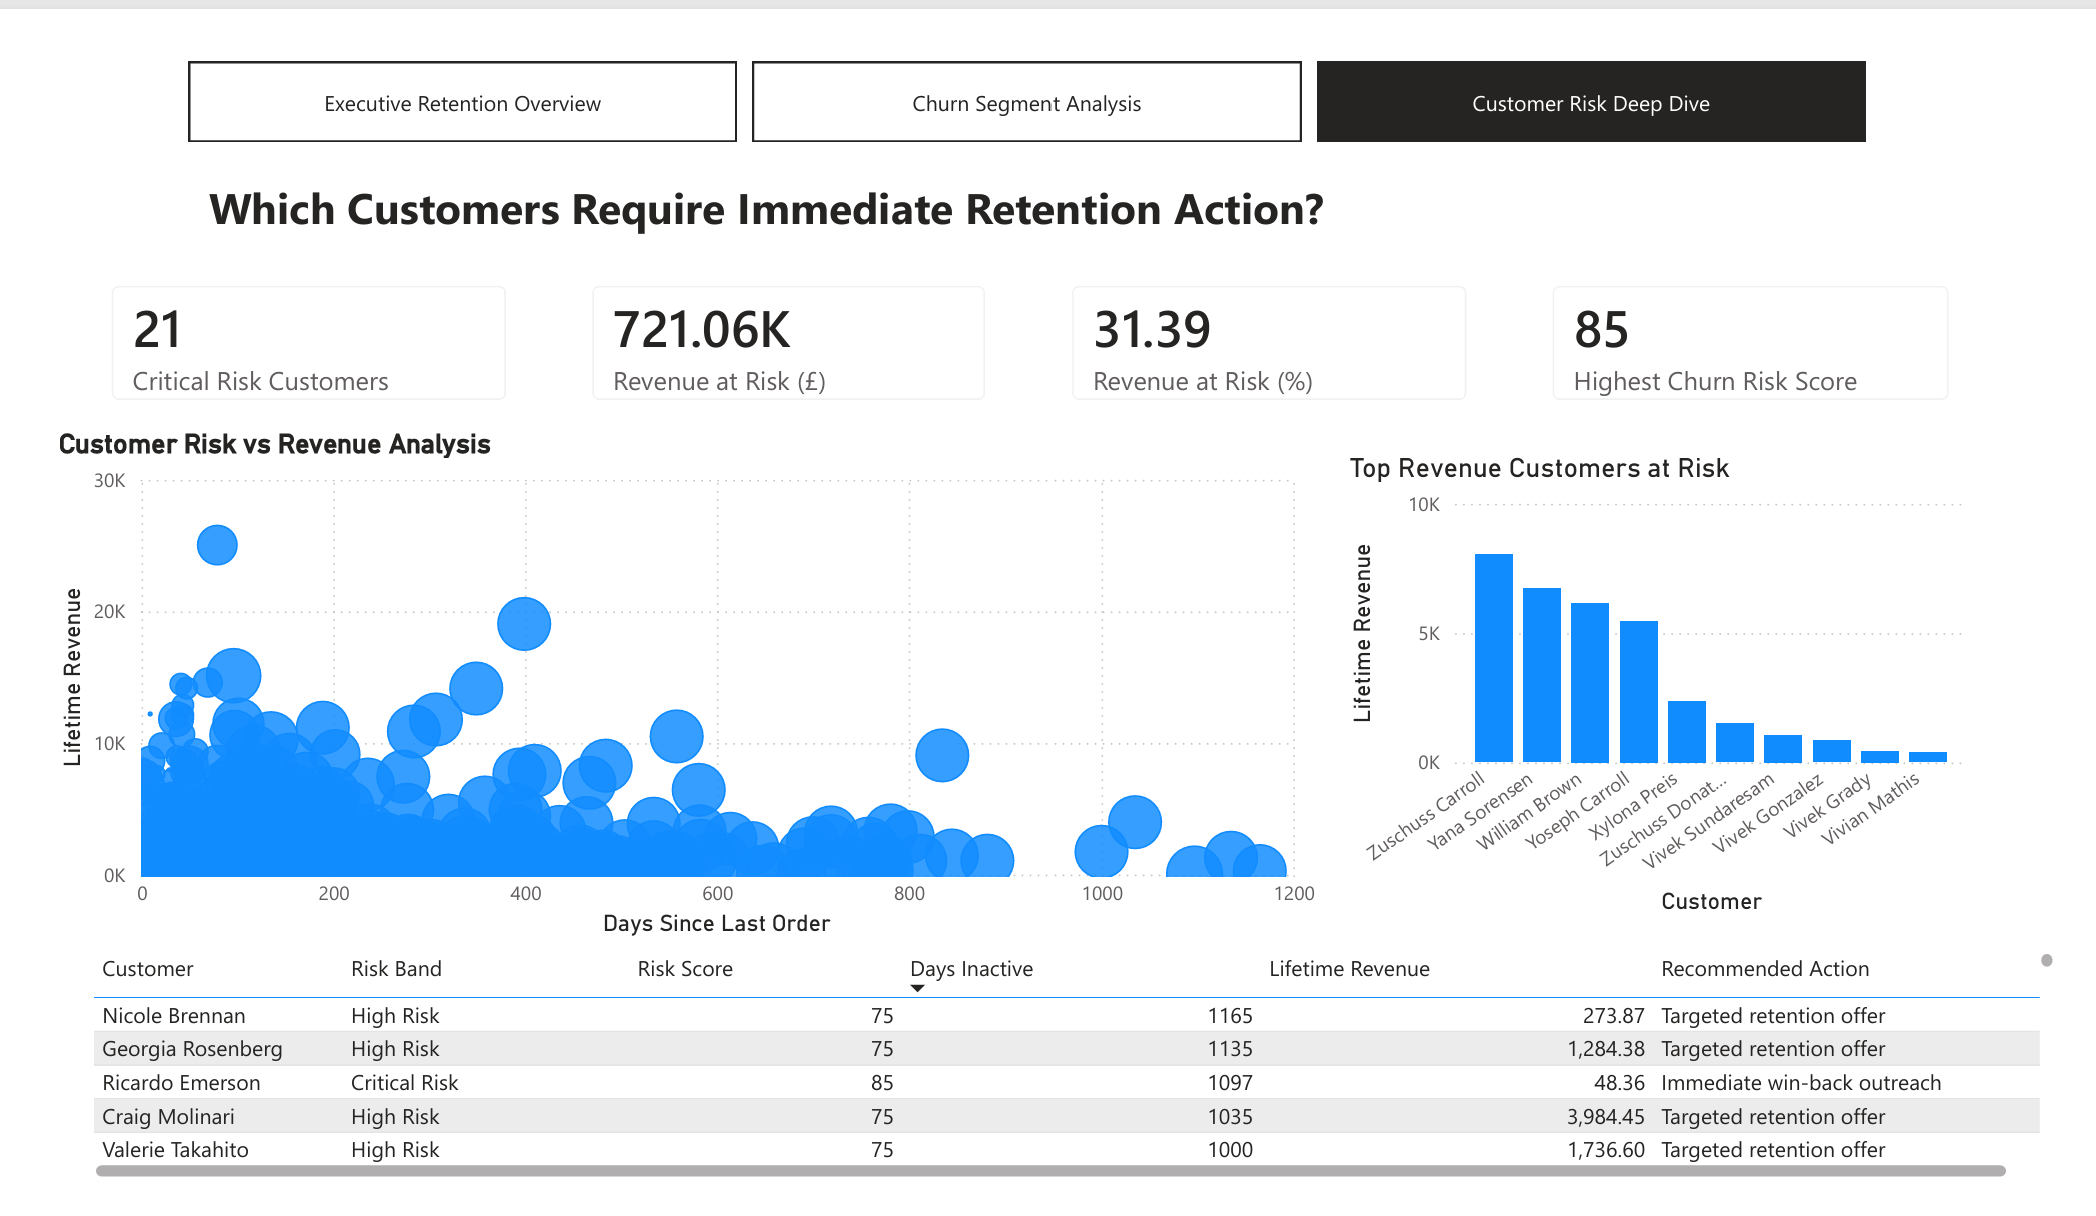

The page's visual inventory and layout, read from the dashboard file:
{"tool":"powerbi","page":{"name":"Customer Risk Deep Dive","canvas":[1280,720],"ordinal":2},"visuals":[{"type":"scatterChart","title":"Customer Risk vs Revenue Analysis","fields":{"X":["Sum(churn_customer_detail.days_since_last_order)"],"Y":["Sum(churn_customer_detail.lifetime_sales)"],"Size":["Sum(churn_customer_detail.churn_risk_score)"],"Category":["churn_customer_detail.customer_name"]},"box":[10.6,236.6,793.2,323],"z":0},{"type":"pageNavigator","box":[97.1,9.1,1046.4,50],"z":1},{"type":"textbox","box":[97.1,75.8,1046.4,56.1],"z":3},{"type":"cardVisual","fields":{"Data":["Sum(churn_segment_summary.customer_count)"]},"box":[31.8,131.9,280,104.6],"z":4},{"type":"cardVisual","fields":{"Data":["Sum(churn_kpi_summary.revenue_at_high_risk)"]},"box":[331.8,131.9,279.1,104.6],"z":5},{"type":"cardVisual","fields":{"Data":["Sum(churn_kpi_summary.revenue_at_high_risk_pct)"]},"box":[630.7,131.9,280.6,104.6],"z":6},{"type":"cardVisual","fields":{"Data":["Max(churn_customer_detail.churn_risk_score)"]},"box":[931.2,131.9,280.6,104.6],"z":7},{"type":"tableEx","fields":{"Values":["churn_customer_detail.customer_name","churn_customer_detail.churn_risk_band","Sum(churn_customer_detail.churn_risk_score)","Sum(churn_customer_detail.days_since_last_order)","Sum(churn_customer_detail.lifetime_sales)","churn_customer_detail.recommended_retention_action"]},"box":[31.8,559.6,1234.5,151.7],"z":8},{"type":"columnChart","title":"Top Revenue Customers at Risk","fields":{"Category":["churn_customer_detail.customer_name"],"Y":["Sum(churn_customer_detail.lifetime_sales)"]},"box":[815.9,251.8,395.8,294.2],"z":9}]}

Visuals, with their boxes on the page's 1280x720 design canvas (x1, y1, x2, y2). These are canvas units, not pixel positions in the 2096x1216 screenshot, which may show the page scaled, cropped or inside an application window:
"Customer Risk vs Revenue Analysis" scatterChart: x1=11, y1=237, x2=804, y2=560
pageNavigator: x1=97, y1=9, x2=1144, y2=59
textbox: x1=97, y1=76, x2=1144, y2=132
cardVisual - Sum(churn_segment_summary.customer_count): x1=32, y1=132, x2=312, y2=236
cardVisual - Sum(churn_kpi_summary.revenue_at_high_risk): x1=332, y1=132, x2=611, y2=236
cardVisual - Sum(churn_kpi_summary.revenue_at_high_risk_pct): x1=631, y1=132, x2=911, y2=236
cardVisual - Max(churn_customer_detail.churn_risk_score): x1=931, y1=132, x2=1212, y2=236
tableEx - churn_customer_detail.customer_name x churn_customer_detail.churn_risk_band: x1=32, y1=560, x2=1266, y2=711
"Top Revenue Customers at Risk" columnChart: x1=816, y1=252, x2=1212, y2=546
